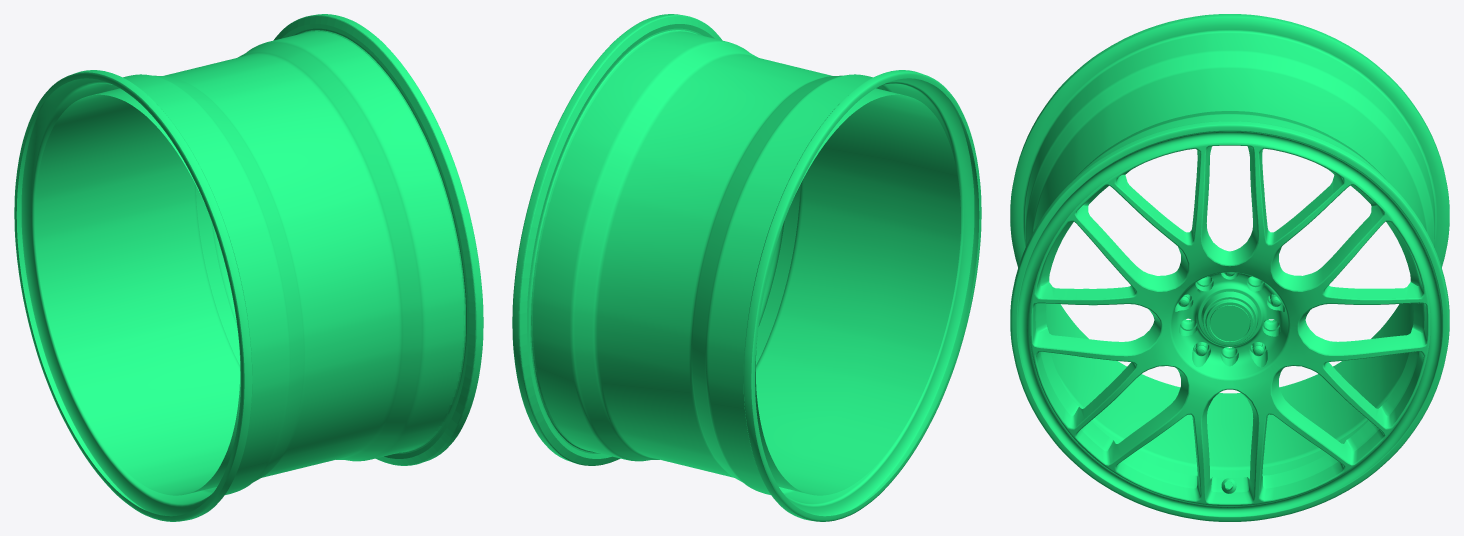
File: equip01.fbx
3 views of the same model, side by side, from view 1: azimuth 30°, elevation 25°; view 2: azimuth 150°, elevation 25°; view 3: azimuth 270°, elevation 25° (orthographic). The views are drawn at different scales.
Parts seen in each view (by area): view 1: equip01; view 2: equip01; view 3: equip01.
Part boxes in pixels (x1,y1,x2,y2): equip01: (14,14,483,521); equip01: (512,14,981,521); equip01: (1010,14,1449,521).
Bounding box in the file's own units: 1543 × 2436 × 2436.
